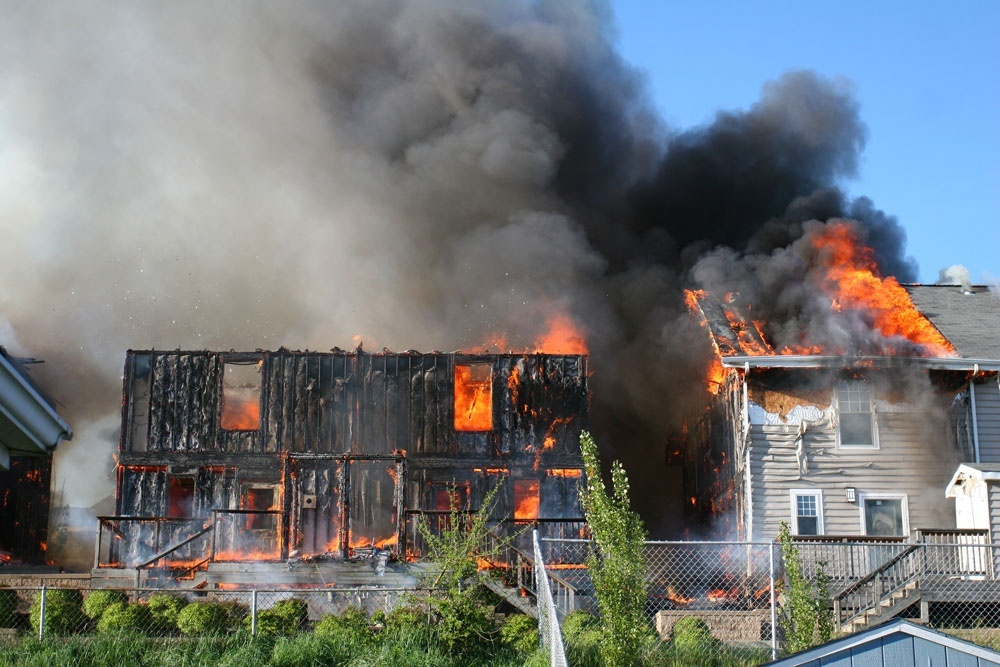fire: (705, 229, 960, 361), (451, 351, 497, 429), (511, 478, 541, 520)
